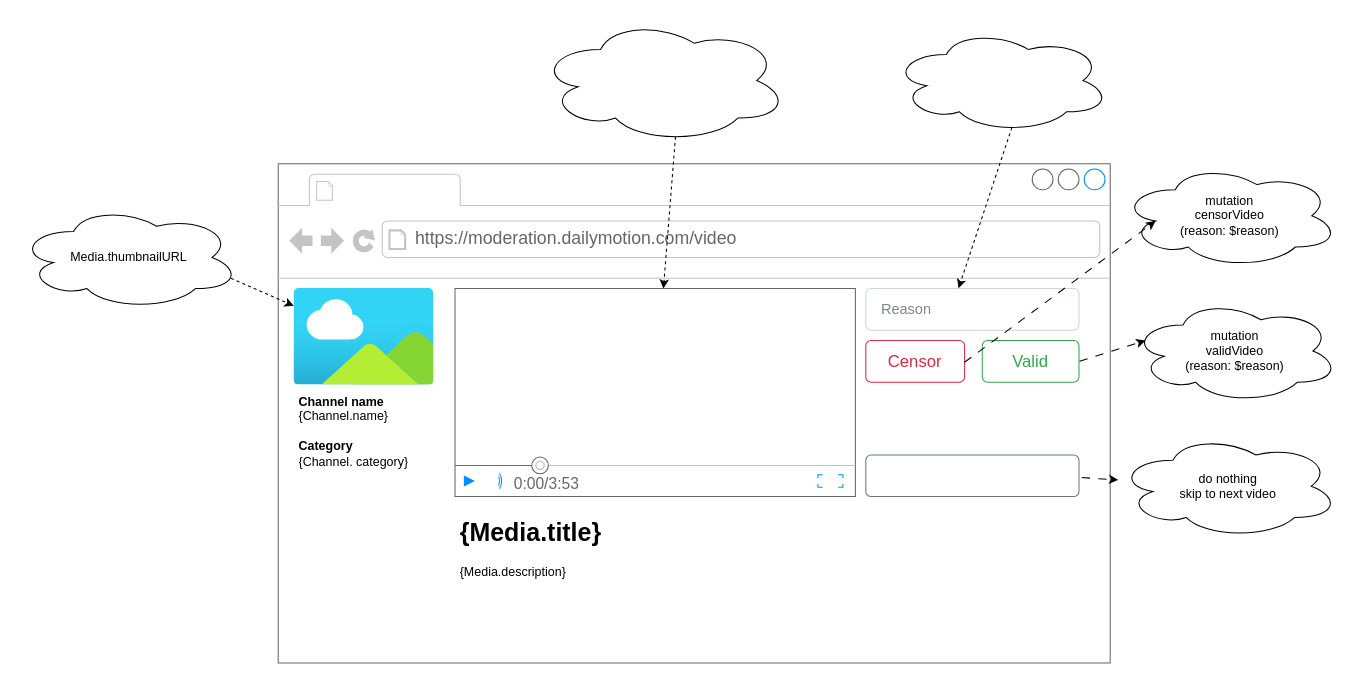
Image size: 1357x681. Some labels were removed from this diagram. Each missing label, with the centre of its shape:
Moderation: point 397,189
reason is required to click on censor / valid: point 1000,80
Skip: point 972,475
Use Media.embedURL & Iframe to render the video (with autoplay): point 662,80
